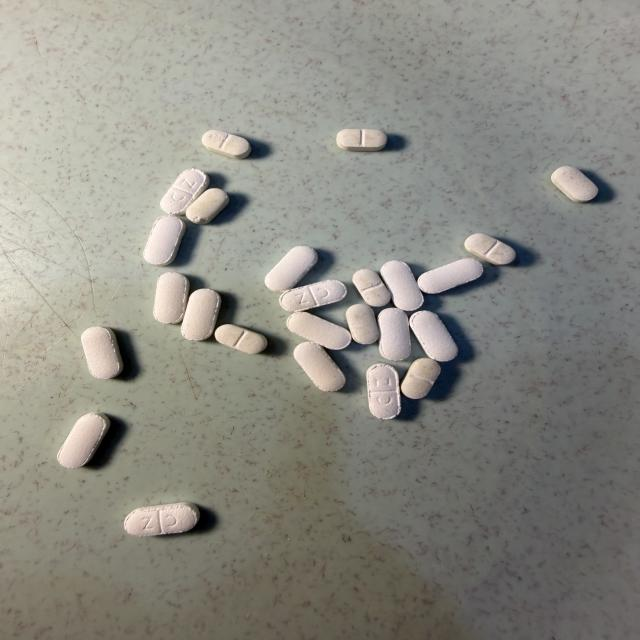pill: (58, 413, 110, 468), (294, 342, 345, 391), (125, 503, 199, 536), (265, 246, 318, 291), (287, 312, 351, 349), (410, 311, 457, 361), (418, 258, 483, 293), (161, 169, 209, 215), (81, 327, 123, 379), (280, 280, 347, 311), (144, 216, 186, 265), (381, 261, 423, 310), (181, 289, 221, 340), (367, 364, 400, 419), (154, 272, 189, 323), (378, 308, 411, 360), (551, 166, 598, 202), (465, 233, 515, 265), (401, 358, 440, 399), (215, 324, 267, 354), (186, 189, 229, 224), (202, 130, 251, 158), (353, 269, 390, 306), (346, 304, 379, 344), (337, 129, 387, 151)
